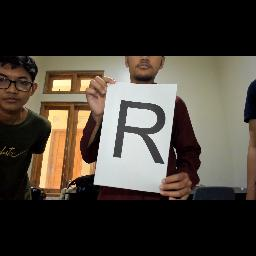r: (104, 98, 172, 174)
